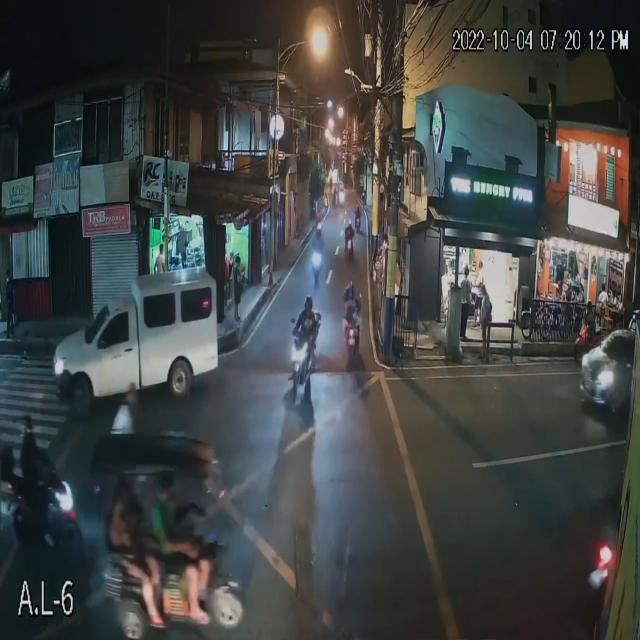Full-Faced: (16, 408, 32, 445), (302, 289, 315, 315), (348, 280, 357, 297), (346, 215, 354, 231)
